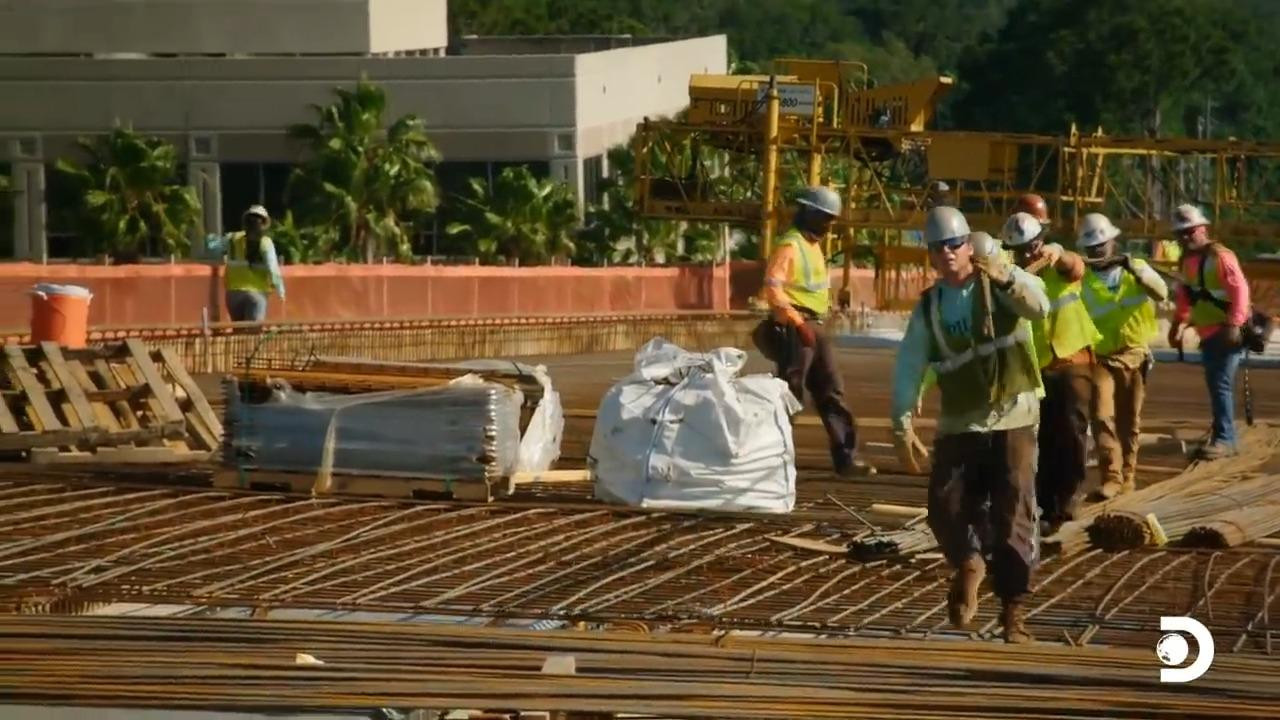Gloves: (891, 425, 932, 471), (794, 319, 819, 350)
Helmet: (924, 205, 971, 244), (1075, 212, 1121, 248), (1000, 211, 1043, 248), (794, 185, 842, 217), (1170, 203, 1210, 232), (243, 204, 269, 222)
Person: (890, 205, 1051, 645), (751, 185, 876, 479), (996, 208, 1099, 535), (1074, 211, 1168, 502), (1167, 203, 1252, 460), (221, 204, 286, 322)
Safety Boot: (945, 565, 978, 626), (999, 606, 1034, 638), (1093, 473, 1136, 499), (1195, 435, 1237, 456), (832, 455, 872, 477)
Safety Vest: (934, 295, 1026, 423), (1092, 281, 1150, 345), (782, 237, 826, 316), (1037, 276, 1086, 345), (1187, 259, 1229, 318), (228, 233, 267, 287)
